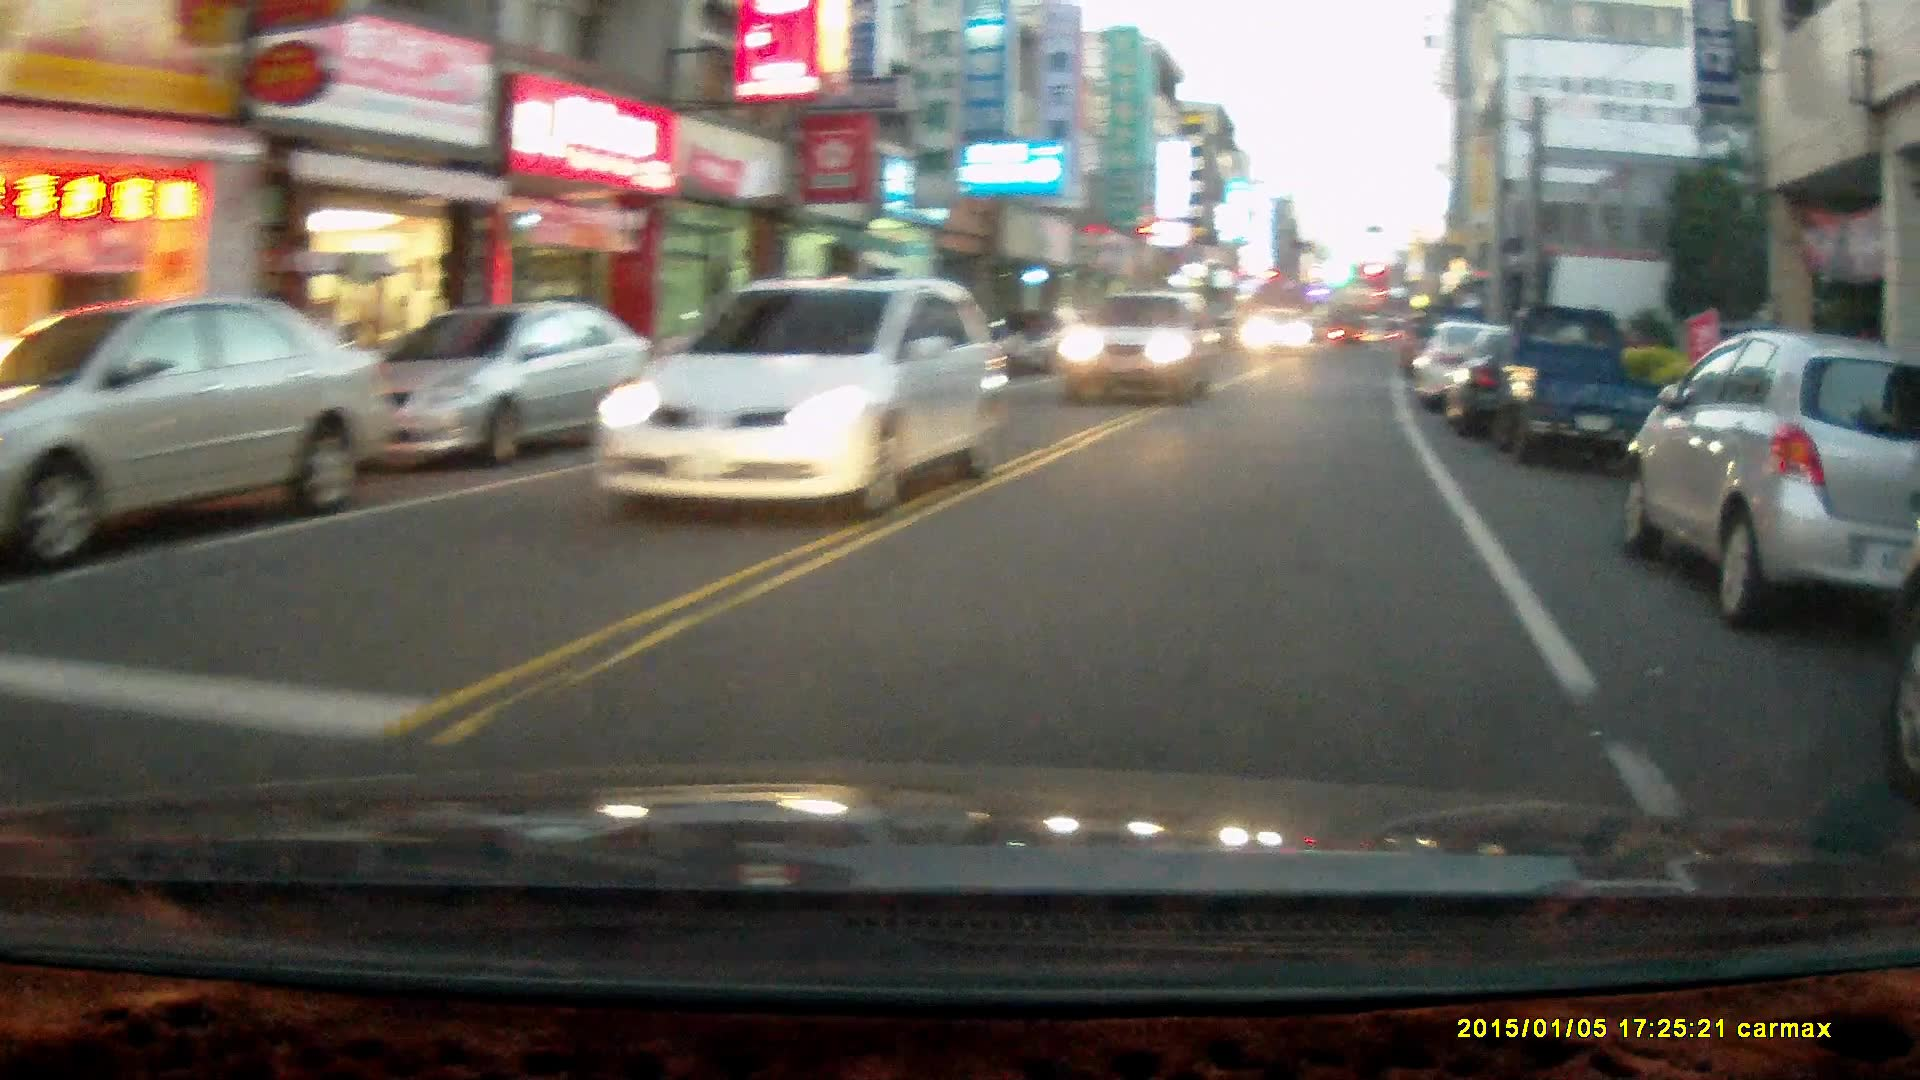vehicle: (3, 301, 398, 567), (584, 284, 1004, 527), (1611, 332, 1920, 640), (347, 305, 653, 476), (1482, 309, 1665, 473), (1055, 294, 1225, 411), (1410, 315, 1557, 415), (1240, 313, 1315, 363)
